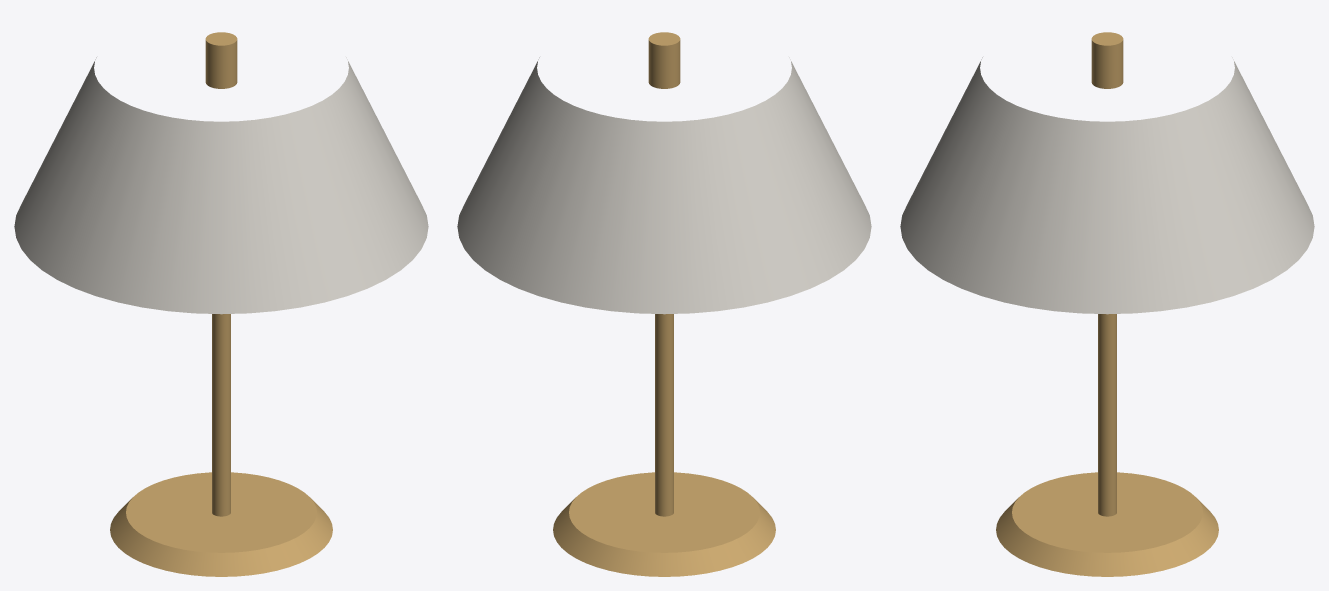
File: brass-lamp.glb
3 views of the same model, side by side, from view 1: azimuth 30°, elevation 25°; view 2: azimuth 150°, elevation 25°; view 3: azimuth 270°, elevation 25° (orthographic).
Size of the model in its own units: 2.6 by 3.4 by 2.6.
